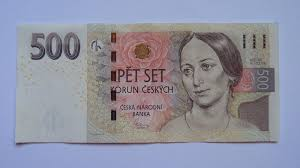czech_koruna_500: (17, 24, 277, 140)
